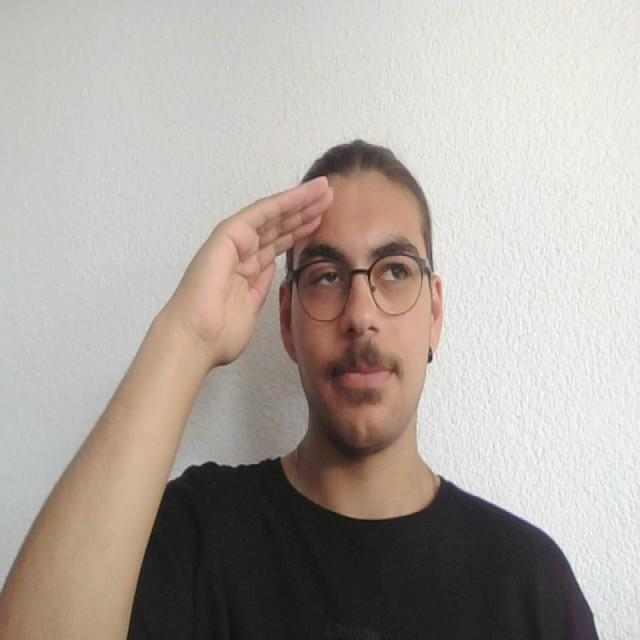Merhaba: (170, 151, 340, 413)
